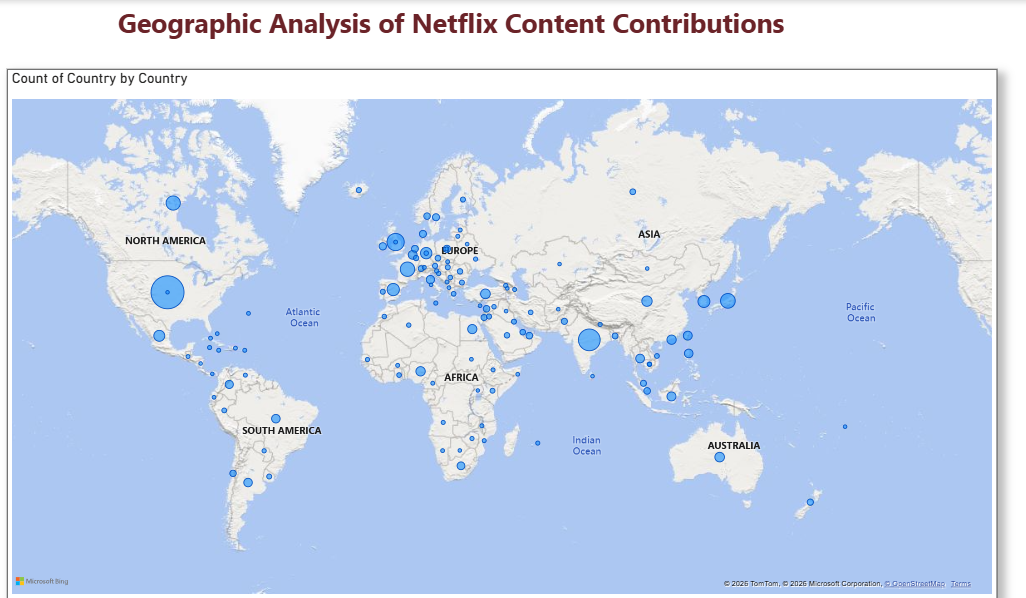

The page's visual inventory and layout, read from the dashboard file:
{"tool":"powerbi","page":{"name":"Netflix Global Content Distribution","canvas":[1280,720],"ordinal":2},"visuals":[{"type":"map","fields":{"Category":["Netflix_titles_exploded.Country"],"Size":["CountNonNull(Netflix_titles_exploded.Country)"]},"box":[10,82.9,1191.4,637.1],"z":0},{"type":"textbox","box":[100,0,891.4,71.4],"z":1}]}

Visuals, with their boxes on the page's 1280x720 design canvas (x1, y1, x2, y2). These are canvas units, not pixel positions in the 1026x598 screenshot, which may show the page scaled, cropped or inside an application window:
map - Netflix_titles_exploded.Country x CountNonNull(Netflix_titles_exploded.Country): detection(10, 83, 1201, 720)
textbox: detection(100, 0, 991, 71)
